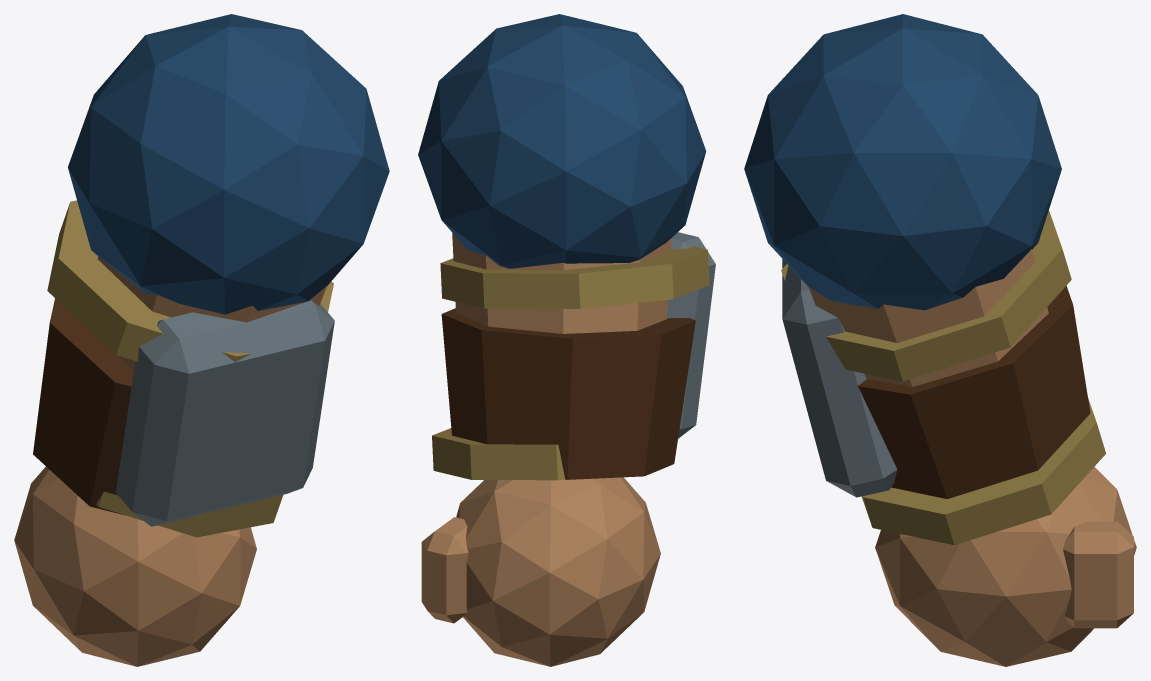
Rendered from ForearmLeft.glb.
3 views of the same model, side by side, from view 1: azimuth 30°, elevation 25°; view 2: azimuth 150°, elevation 25°; view 3: azimuth 270°, elevation 25° (orthographic). The views are drawn at different scales.
Visible parts, largest first — view 1: Sculpture; view 2: Sculpture; view 3: Sculpture.
Boxes of the visible parts, x1,y1,x2,y2 form: Sculpture: (14, 14, 389, 666); Sculpture: (418, 14, 715, 666); Sculpture: (744, 14, 1136, 666).
Bounding box in the file's own units: 0.1782 × 0.383 × 0.21.
